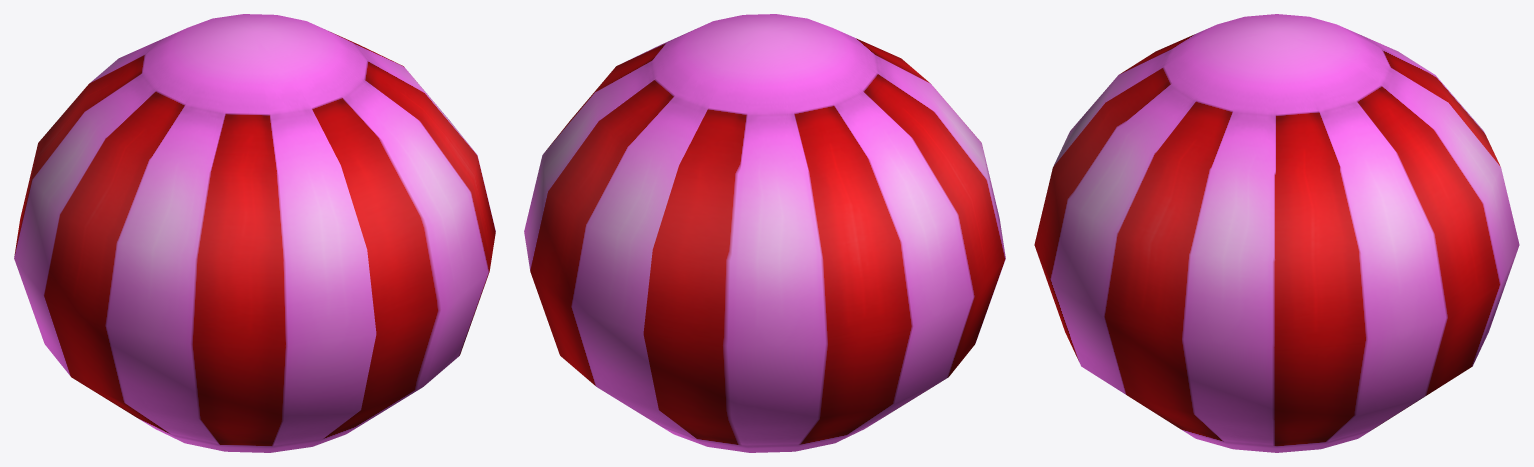
Rendered from a_SWAball03.glb.
3 views of the same model, side by side, from view 1: azimuth 30°, elevation 25°; view 2: azimuth 150°, elevation 25°; view 3: azimuth 270°, elevation 25° (orthographic).
Visible parts, largest first — view 1: a_SWAball03; view 2: a_SWAball03; view 3: a_SWAball03.
Boxes of the visible parts, x1,y1,x2,y2 form: a_SWAball03: [14, 14, 495, 452]; a_SWAball03: [524, 14, 1005, 452]; a_SWAball03: [1034, 14, 1519, 452].
Size of the model in its own units: 2.98 by 2.52 by 2.98.
1 material, 1 textured.
